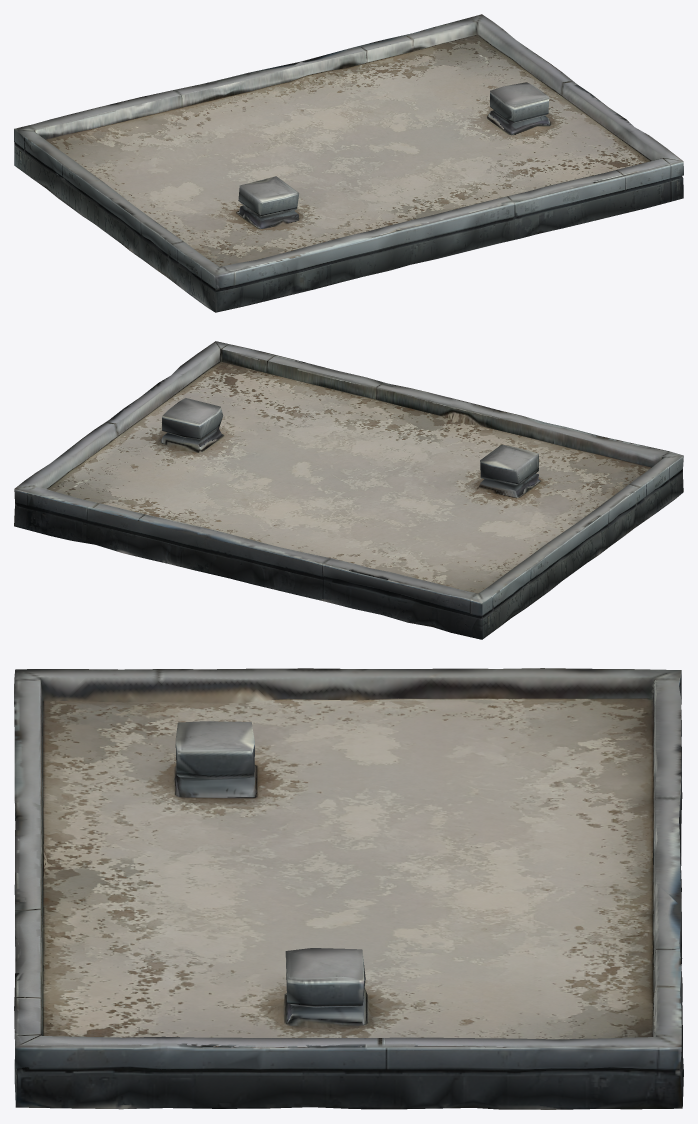
Rendered from EX_Lab_Roof.fbx.
The picture shows the model from 3 angles, top to bottom: view 1: azimuth 30°, elevation 25°; view 2: azimuth 150°, elevation 25°; view 3: azimuth 270°, elevation 25°; orthographic projection. The views are drawn at different scales.
Parts seen in each view (by area): view 1: texture_mapping; view 2: texture_mapping; view 3: texture_mapping.
Part boxes in pixels (x1,y1,x2,y2): texture_mapping: (14, 14, 683, 312); texture_mapping: (14, 341, 683, 639); texture_mapping: (14, 668, 683, 1109).
Size of the model in its own units: 0.9954 by 0.744 by 0.1138.
1 material, 1 textured.
